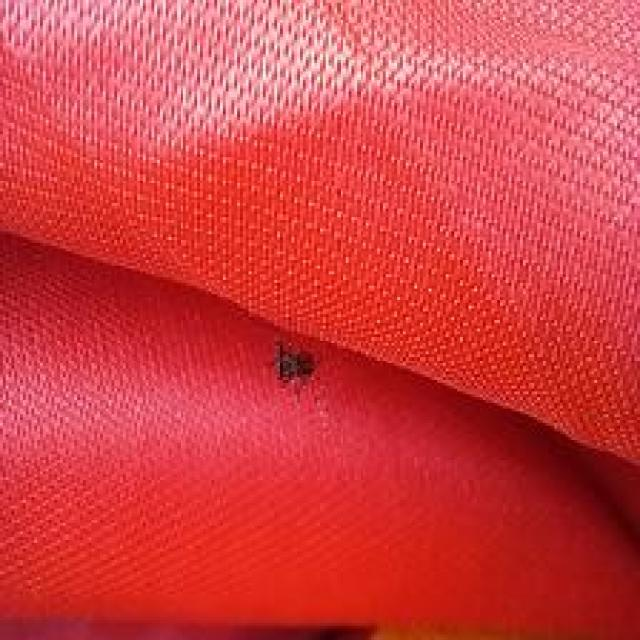Aedes albopictus: (270, 339, 316, 387)
